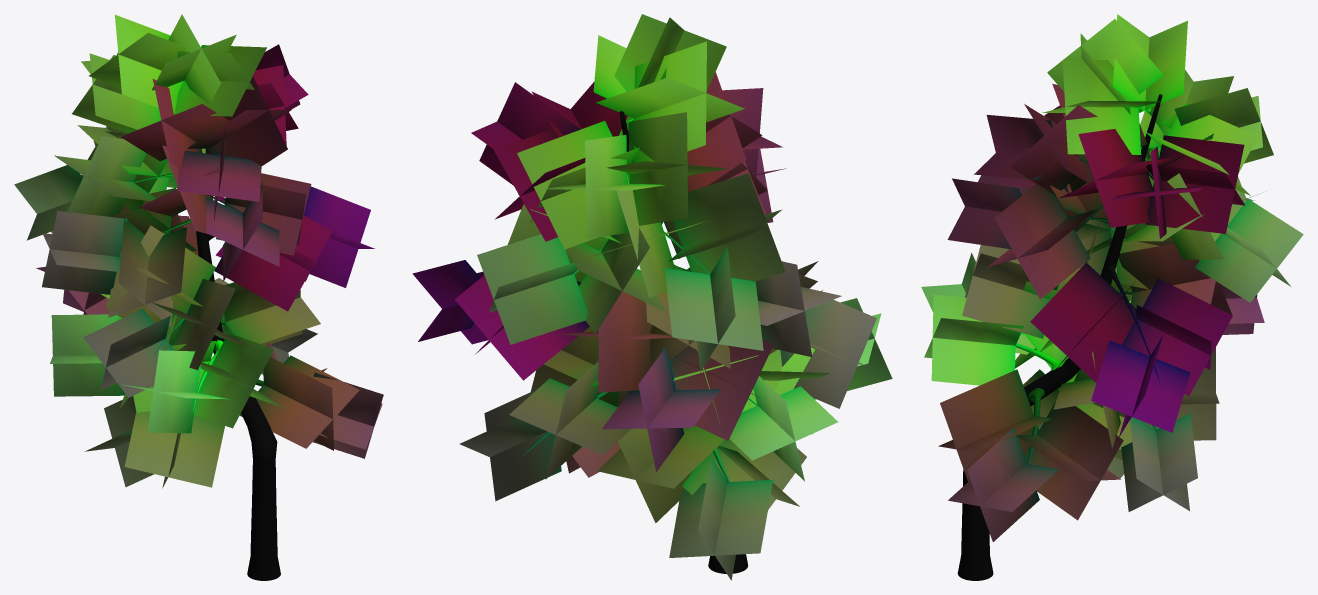
File: URP_P7_Tree_1_LOD_0.fbx
3 renders of one model, left to right at view 1: azimuth 30°, elevation 25°; view 2: azimuth 150°, elevation 25°; view 3: azimuth 270°, elevation 25°, orthographic. The views are drawn at different scales.
Parts seen in each view (by area): view 1: Tree_1_LOD_0; view 2: Tree_1_LOD_0; view 3: Tree_1_LOD_0.
Part boxes in pixels (x1,y1,x2,y2): Tree_1_LOD_0: (14, 14, 383, 580); Tree_1_LOD_0: (412, 14, 892, 580); Tree_1_LOD_0: (921, 14, 1303, 580).
Size of the model in its own units: 280 by 405 by 257.
